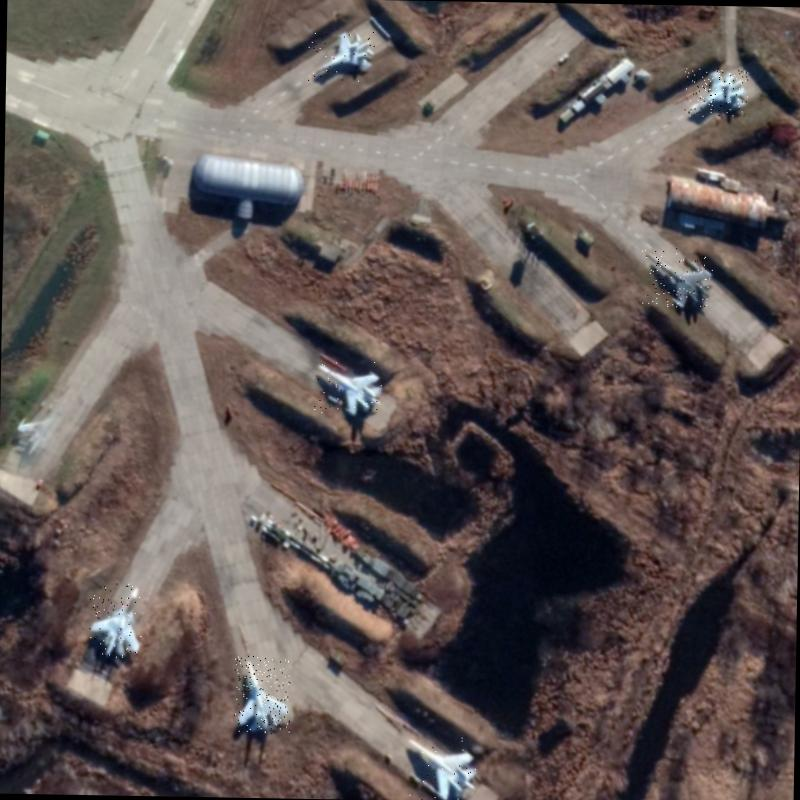A1: (400, 735, 477, 800), (640, 247, 714, 308), (234, 655, 290, 734), (314, 360, 382, 415), (308, 29, 374, 82), (684, 67, 749, 117)
A19: (88, 582, 142, 658)
